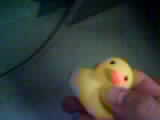duck: (68, 46, 133, 107)
